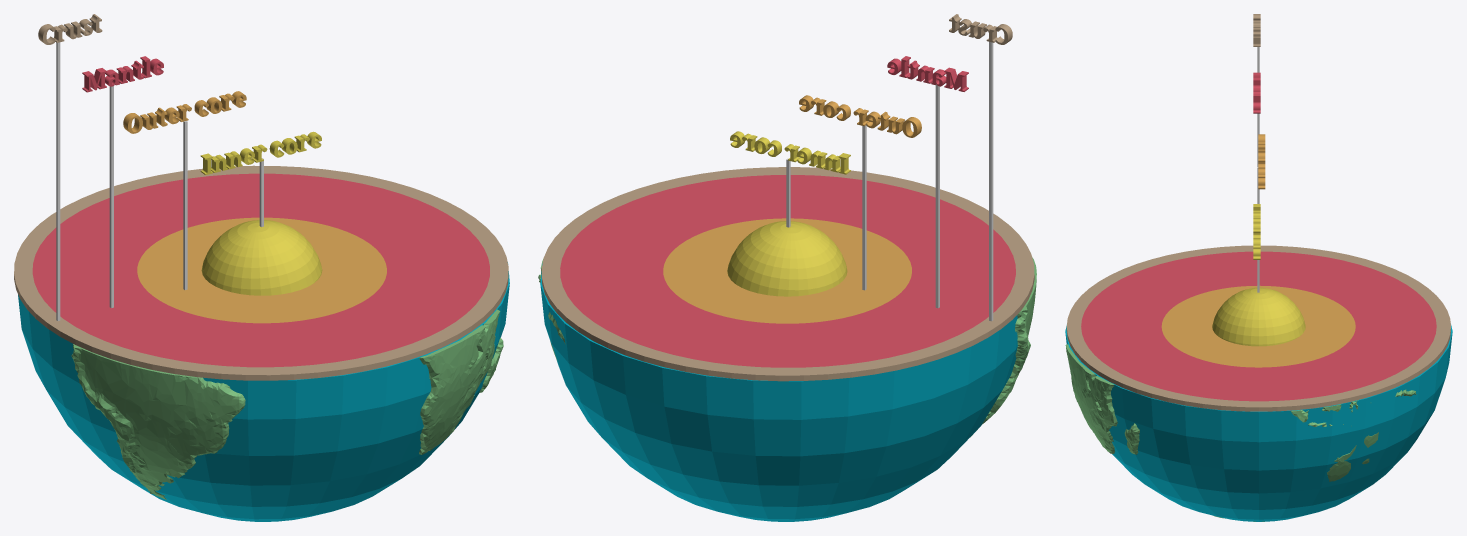
Rendered from asset.glb.
The picture shows the model from 3 angles, left to right: view 1: azimuth 30°, elevation 25°; view 2: azimuth 150°, elevation 25°; view 3: azimuth 270°, elevation 25°; orthographic projection. The views are drawn at different scales.
Visible parts, largest first — view 1: Mesh_Mesh_head_geo.001_lambert2SG.001; view 2: Mesh_Mesh_head_geo.001_lambert2SG.001; view 3: Mesh_Mesh_head_geo.001_lambert2SG.001.
Part boxes in pixels (left/top/right/bottom): Mesh_Mesh_head_geo.001_lambert2SG.001: left=14, top=14, right=509, bottom=521; Mesh_Mesh_head_geo.001_lambert2SG.001: left=538, top=14, right=1036, bottom=521; Mesh_Mesh_head_geo.001_lambert2SG.001: left=1065, top=14, right=1452, bottom=521.
Size of the model in its own units: 81.65 by 94.12 by 80.87.
